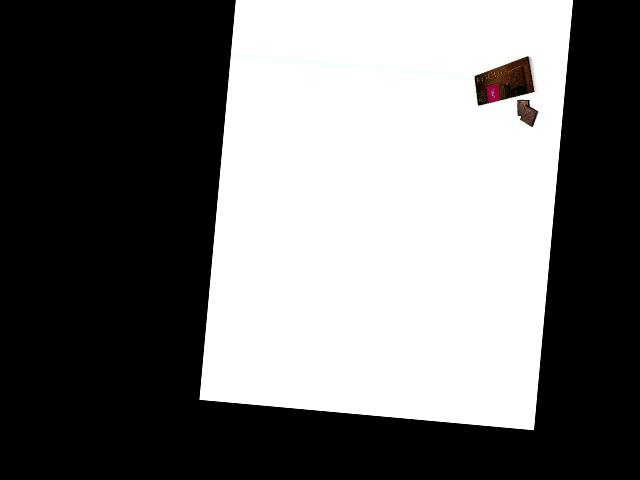chocolate: (471, 51, 538, 111)
